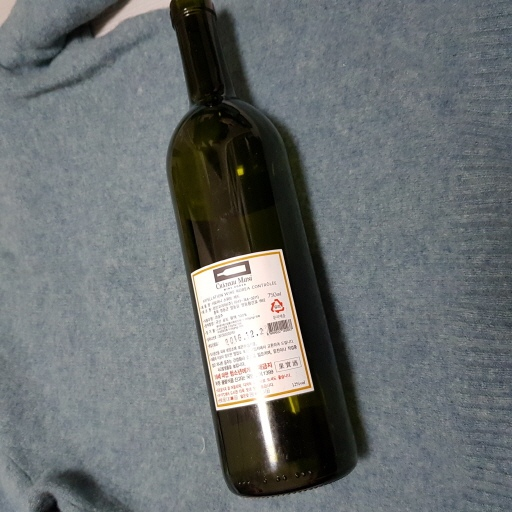Glass_2: (163, 1, 359, 497)
